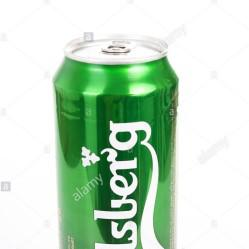beer: (51, 31, 182, 249)
